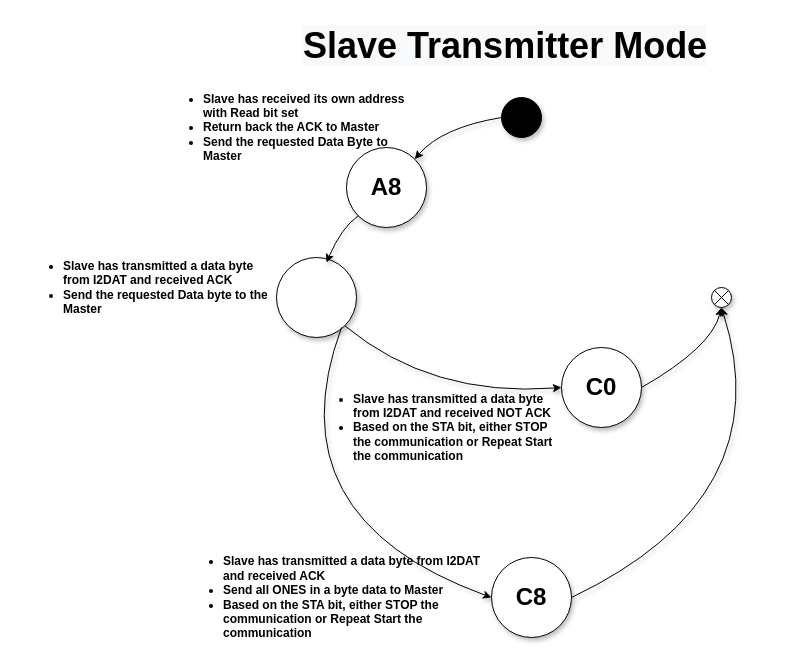
The diagram is 798 pixels wide and 669 high, and some of its shapes have lost their labels. Here are the shapes that lost their labels. From the top down, the centre of each, then its label:
the point at 317,298: B8
the point at 722,298: aborted
